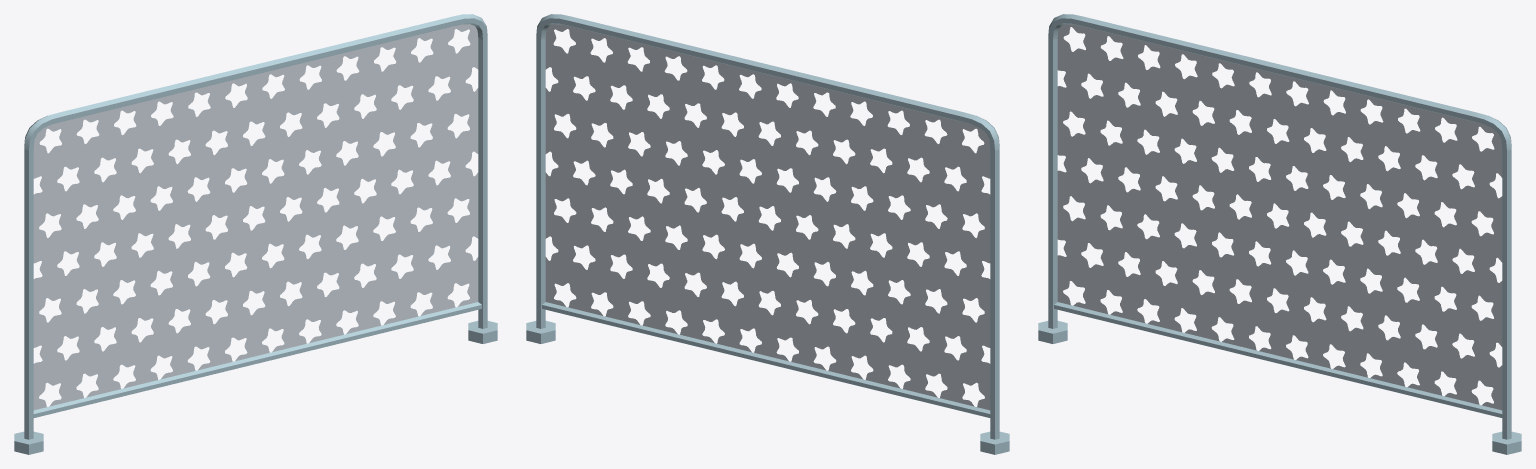
File: MD_fence_260118.fbx
3 renders of one model, left to right at view 1: azimuth 30°, elevation 25°; view 2: azimuth 150°, elevation 25°; view 3: azimuth 330°, elevation 25°, orthographic.
Parts seen in each view (by area): view 1: pCube63, pCylinder55; view 2: pCube63, pCylinder55; view 3: pCube63, pCylinder55.
Boxes of the visible parts, x1,y1,x2,y2 form: pCube63: [33, 24, 478, 410]; pCylinder55: [14, 14, 497, 454]; pCube63: [545, 24, 990, 410]; pCylinder55: [526, 14, 1009, 454]; pCube63: [1057, 24, 1502, 410]; pCylinder55: [1038, 14, 1521, 454].
Bounding box in the file's own units: 234 × 152 × 12.23.
